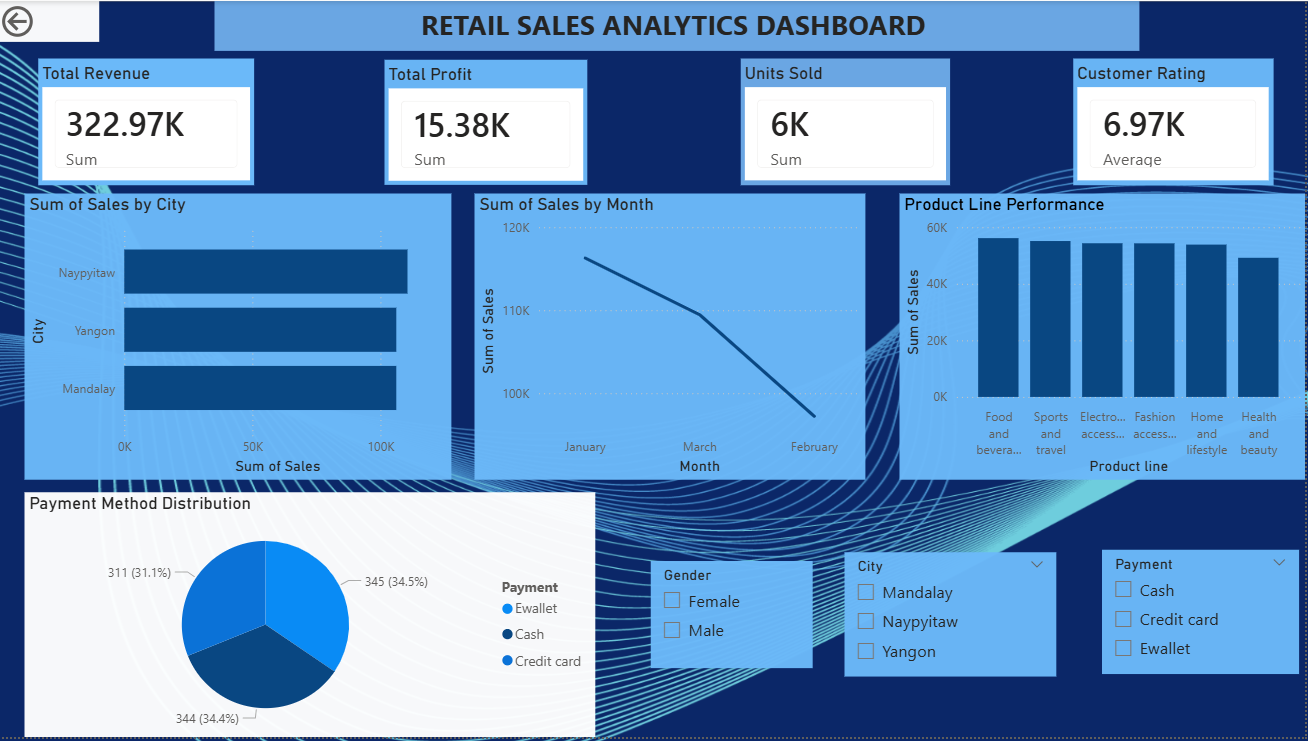

This screenshot's page, from the dashboard's own definition file:
{"tool":"powerbi","page":{"name":"Page 1","canvas":[1280,720],"ordinal":0},"visuals":[{"type":"cardVisual","title":"Total Revenue","fields":{"Data":["Sum(clean_sales.Sales)"]},"box":[40,56.2,211.2,123.8],"z":0},{"type":"actionButton","box":[0,0,100,40],"z":1000},{"type":"clusteredBarChart","fields":{"Category":["clean_sales.City"],"Y":["Sum(clean_sales.Sales)"]},"box":[27.5,188.8,417.5,280],"z":2000},{"type":"clusteredColumnChart","title":"Product Line Performance","fields":{"Category":["clean_sales.Product line"],"Y":["Sum(clean_sales.Sales)"]},"box":[882.5,188.8,397.5,280],"z":3000},{"type":"pieChart","title":"Payment Method Distribution","fields":{"Category":["clean_sales.Payment"],"Y":["CountNonNull(clean_sales.Payment)"]},"box":[27.5,480,558.8,240],"z":4000},{"type":"lineChart","fields":{"Category":["clean_sales.Month"],"Y":["Sum(clean_sales.Sales)"]},"box":[467.5,188.8,382.5,280],"z":5000},{"type":"slicer","fields":{"Values":["clean_sales.City"]},"box":[828.8,538.8,207.5,121.2],"z":6000},{"type":"slicer","fields":{"Values":["clean_sales.Gender"]},"box":[640,547.5,158.8,105],"z":7000},{"type":"slicer","fields":{"Values":["clean_sales.Payment"]},"box":[1081.2,536.2,192.5,121.2],"z":8000},{"type":"cardVisual","title":"Total Profit","fields":{"Data":["Sum(clean_sales.gross income)"]},"box":[378.8,57.5,198.8,122.5],"z":9000},{"type":"cardVisual","title":"Customer Rating","fields":{"Data":["Sum(clean_sales.Rating)"]},"box":[1052.5,56.2,196.2,123.8],"z":10000},{"type":"cardVisual","title":"Units Sold","fields":{"Data":["Sum(clean_sales.Quantity)"]},"box":[727.5,56.2,205,123.8],"z":11000},{"type":"textbox","box":[212.5,0,905,48.8],"z":12000}]}

Visuals, with their boxes in screenshot pixels (x1, y1, x2, y2), scaled from the page's 1280x720 canvas onto the 1308x741 screenshot:
"Total Revenue" cardVisual: crop(41, 58, 257, 185)
actionButton: crop(0, 0, 102, 41)
clusteredBarChart - clean_sales.City x Sum(clean_sales.Sales): crop(28, 194, 455, 482)
"Product Line Performance" clusteredColumnChart: crop(902, 194, 1307, 482)
"Payment Method Distribution" pieChart: crop(28, 494, 599, 740)
lineChart - clean_sales.Month x Sum(clean_sales.Sales): crop(478, 194, 869, 482)
slicer - clean_sales.City: crop(847, 555, 1059, 679)
slicer - clean_sales.Gender: crop(654, 563, 816, 672)
slicer - clean_sales.Payment: crop(1105, 552, 1302, 677)
"Total Profit" cardVisual: crop(387, 59, 590, 185)
"Customer Rating" cardVisual: crop(1076, 58, 1276, 185)
"Units Sold" cardVisual: crop(743, 58, 953, 185)
textbox: crop(217, 0, 1142, 50)
